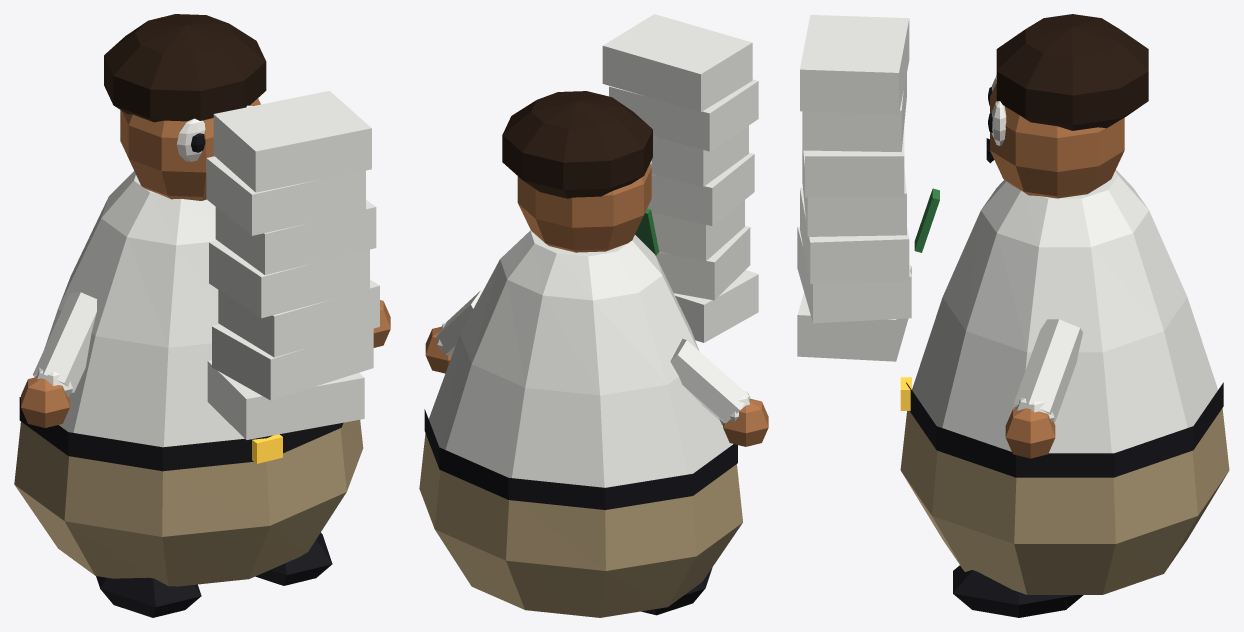
File: npc_pasante_benja.glb
3 renders of one model, left to right at view 1: azimuth 30°, elevation 25°; view 2: azimuth 150°, elevation 25°; view 3: azimuth 270°, elevation 25°, orthographic. The views are drawn at different scales.
Parts seen in each view (by area): view 1: papers_paper, body_chinos, body_office_shirt, head_hair_curly, body_black, head_skin_canela, legs_black, arms_office_shirt, arms_skin_canela, face_white, body_gold; view 2: body_office_shirt, papers_paper, body_chinos, head_hair_curly, body_black, head_skin_canela, arms_office_shirt, arms_skin_canela, body_tie_green, legs_black; view 3: body_office_shirt, papers_paper, body_chinos, head_hair_curly, head_skin_canela, body_black, arms_office_shirt, legs_black, arms_skin_canela, body_tie_green, face_white.
Boxes of the visible parts, left/top/right/bottom form: papers_paper: left=206, top=91, right=379, bottom=439; body_chinos: left=14, top=419, right=363, bottom=586; body_office_shirt: left=44, top=171, right=244, bottom=447; head_hair_curly: left=104, top=14, right=266, bottom=122; body_black: left=19, top=397, right=343, bottom=471; head_skin_canela: left=120, top=98, right=260, bottom=200; legs_black: left=96, top=532, right=332, bottom=617; arms_office_shirt: left=33, top=292, right=97, bottom=397; arms_skin_canela: left=21, top=300, right=390, bottom=427; face_white: left=176, top=105, right=252, bottom=161; body_gold: left=252, top=434, right=282, bottom=463; body_office_shirt: left=428, top=230, right=731, bottom=487; papers_paper: left=602, top=14, right=758, bottom=342; body_chinos: left=419, top=433, right=742, bottom=617; head_hair_curly: left=502, top=91, right=652, bottom=198; body_black: left=424, top=409, right=737, bottom=509; head_skin_canela: left=517, top=164, right=651, bottom=252; arms_office_shirt: left=436, top=290, right=750, bottom=425; arms_skin_canela: left=425, top=327, right=768, bottom=446; body_tie_green: left=635, top=208, right=659, bottom=255; legs_black: left=641, top=567, right=712, bottom=615; body_office_shirt: left=912, top=170, right=1217, bottom=453; papers_paper: left=797, top=15, right=911, bottom=361; body_chinos: left=900, top=408, right=1229, bottom=594; head_hair_curly: left=996, top=14, right=1148, bottom=130; head_skin_canela: left=990, top=83, right=1124, bottom=198; body_black: left=906, top=382, right=1223, bottom=477; arms_office_shirt: left=1013, top=319, right=1082, bottom=422; legs_black: left=953, top=565, right=1083, bottom=617; arms_skin_canela: left=1005, top=408, right=1055, bottom=458; body_tie_green: left=914, top=188, right=939, bottom=252; face_white: left=991, top=75, right=1006, bottom=145.
Size of the model in its own units: 1.13 by 1.59 by 1.13.
